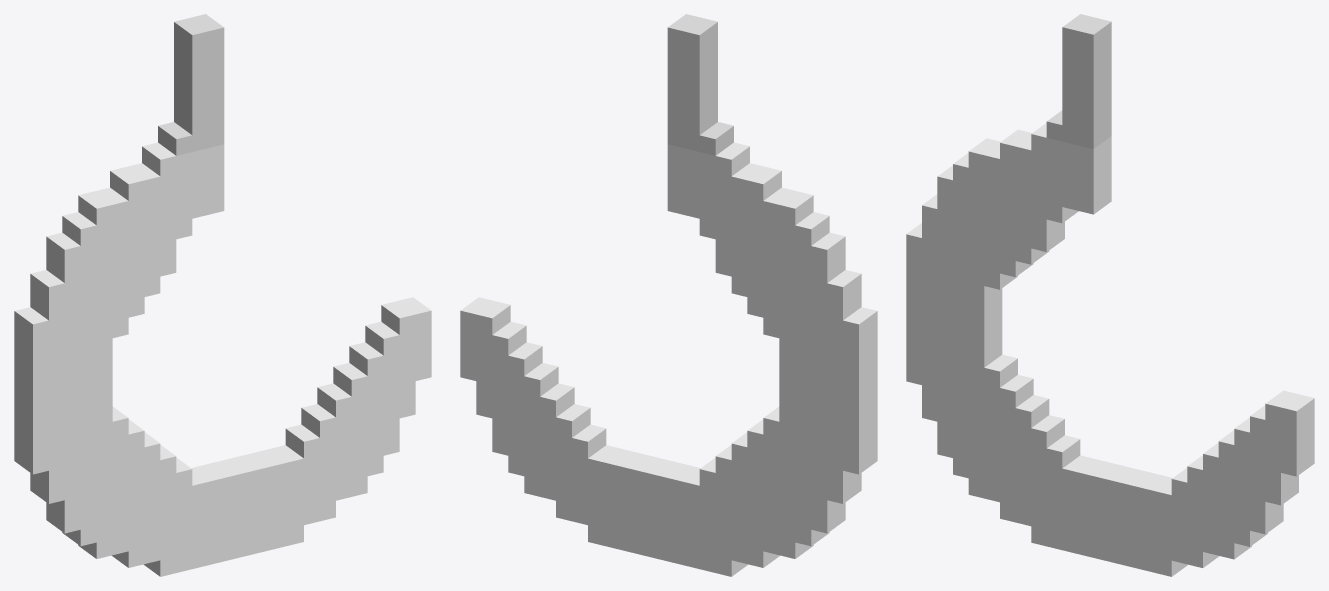
Rendered from Hook1.fbx.
3 renders of one model, left to right at view 1: azimuth 30°, elevation 25°; view 2: azimuth 150°, elevation 25°; view 3: azimuth 330°, elevation 25°, orthographic. The views are drawn at different scales.
Visible parts, largest first — view 1: Disc; view 2: Disc; view 3: Disc.
Boxes of the visible parts, x1,y1,x2,y2 form: Disc: (14, 14, 431, 576); Disc: (460, 14, 877, 576); Disc: (906, 14, 1314, 576).
Size of the model in its own units: 25 by 32 by 2.
Materials: 1 (1 with a texture image).
